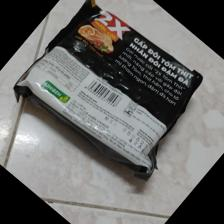3mien: (14, 1, 203, 182)
